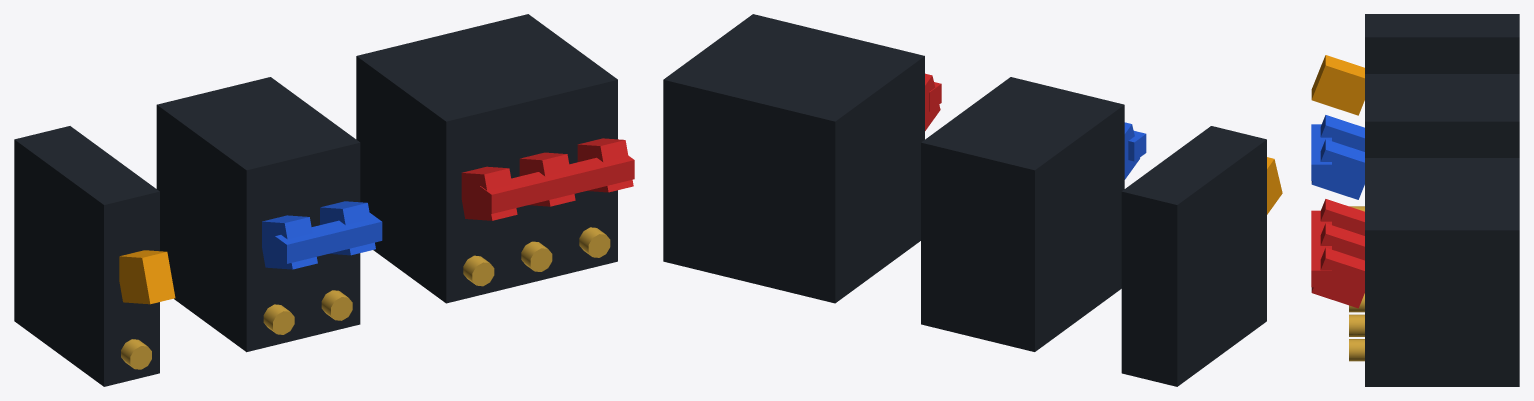
3 renders of one model, left to right at view 1: azimuth 30°, elevation 25°; view 2: azimuth 150°, elevation 25°; view 3: azimuth 270°, elevation 25°, orthographic. The views are drawn at different scales.
Visible parts, largest first — view 1: cad-breaker-trio; view 2: cad-breaker-trio; view 3: cad-breaker-trio.
Boxes of the visible parts, x1,y1,x2,y2 form: cad-breaker-trio: (14, 14, 634, 386); cad-breaker-trio: (663, 14, 1282, 386); cad-breaker-trio: (1311, 14, 1519, 386).
Size of the model in its own units: 0.2248 by 0.076 by 0.0915.
